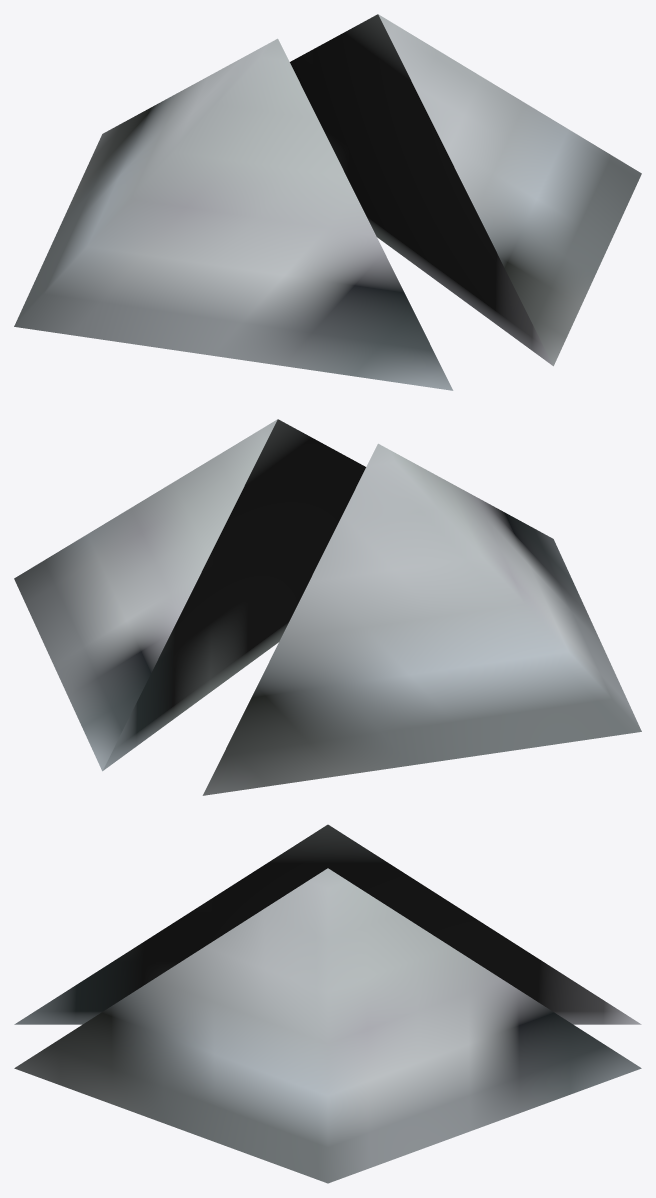
The model's file is imperial_gunboat_turretbase_wing_l3.fbx.
3 views of the same model, one above another, from view 1: azimuth 30°, elevation 25°; view 2: azimuth 150°, elevation 25°; view 3: azimuth 270°, elevation 25° (orthographic). The views are drawn at different scales.
Parts seen in each view (by area): view 1: mesh_node; view 2: mesh_node; view 3: mesh_node.
Boxes of the visible parts, x1,y1,x2,y2 form: mesh_node: (14, 14, 641, 390); mesh_node: (14, 419, 641, 795); mesh_node: (14, 824, 641, 1183).
Size of the model in its own units: 5.5 by 1.87 by 5.33.
1 material, 1 textured.
